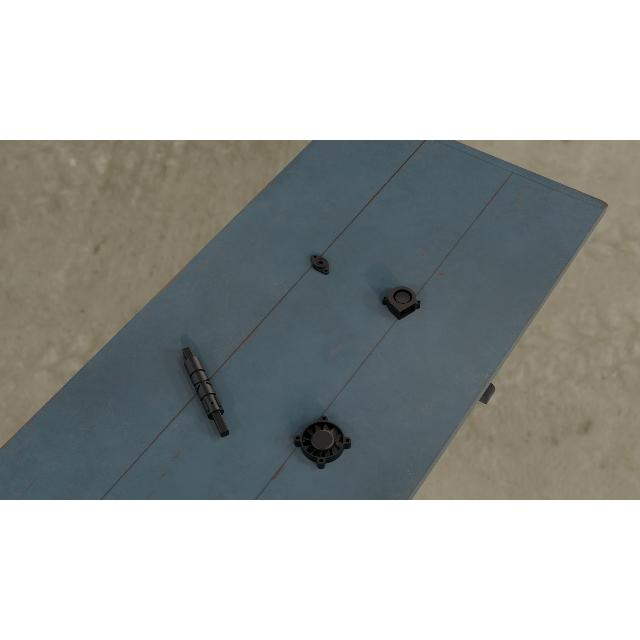Pieza1: (178, 342, 234, 442)
Pieza2: (307, 250, 335, 278)
Pieza3: (381, 282, 423, 321)
Pieza4: (292, 414, 354, 472)
